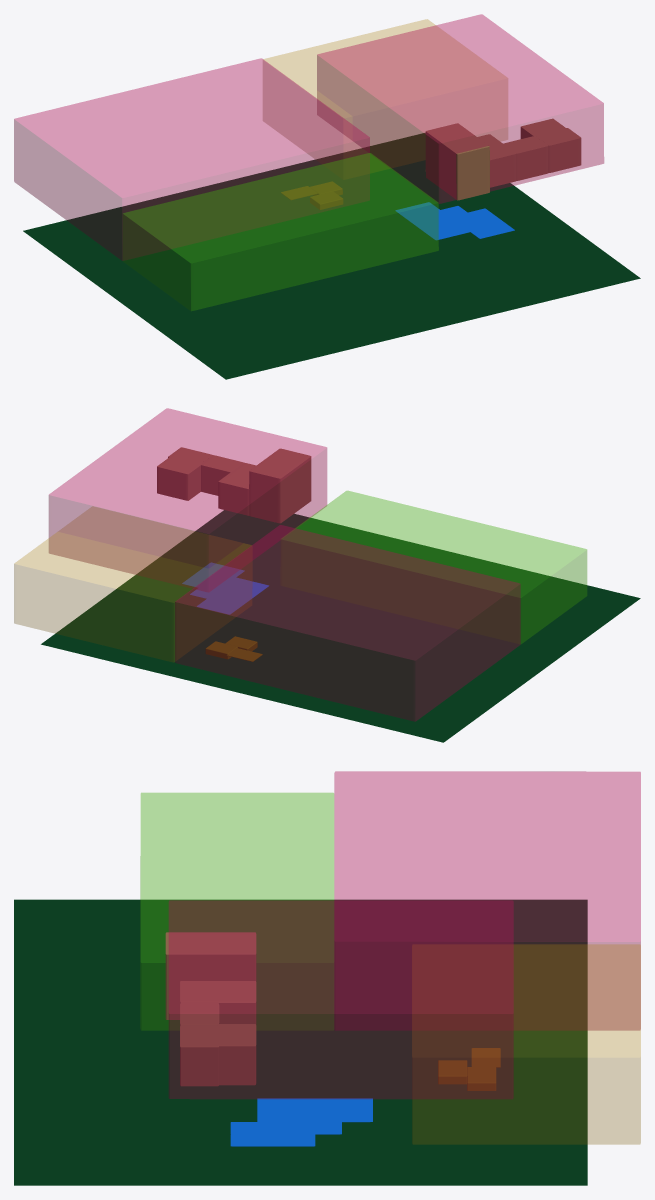
Rendered from terrain2.gltf.
3 views of the same model, one above another, from view 1: azimuth 30°, elevation 25°; view 2: azimuth 150°, elevation 25°; view 3: azimuth 270°, elevation 25° (orthographic). The views are drawn at different scales.
Visible parts, largest first — view 1: Cube top center (×9), Rectangle, Cube right; view 2: Cube top center (×8), Rectangle, Cube right; view 3: Cube top center (×10), Rectangle, Cube right (×7), Cube top (×2).
Part boxes in pixels (left/top/right/bottom): Cube top center (×9): left=14, top=14, right=603, bottom=310; Rectangle: left=23, top=133, right=640, bottom=379; Cube right: left=468, top=208, right=514, bottom=234; Cube top center (×8): left=14, top=408, right=586, bottom=721; Rectangle: left=41, top=510, right=640, bottom=742; Cube right: left=182, top=562, right=226, bottom=587; Cube top center (×10): left=140, top=771, right=640, bottom=1144; Rectangle: left=14, top=899, right=587, bottom=1185; Cube right (×7): left=230, top=1098, right=372, bottom=1146; Cube top (×2): left=438, top=1060, right=495, bottom=1090.
Size of the model in its own units: 28.95 by 8.94 by 25.71.
